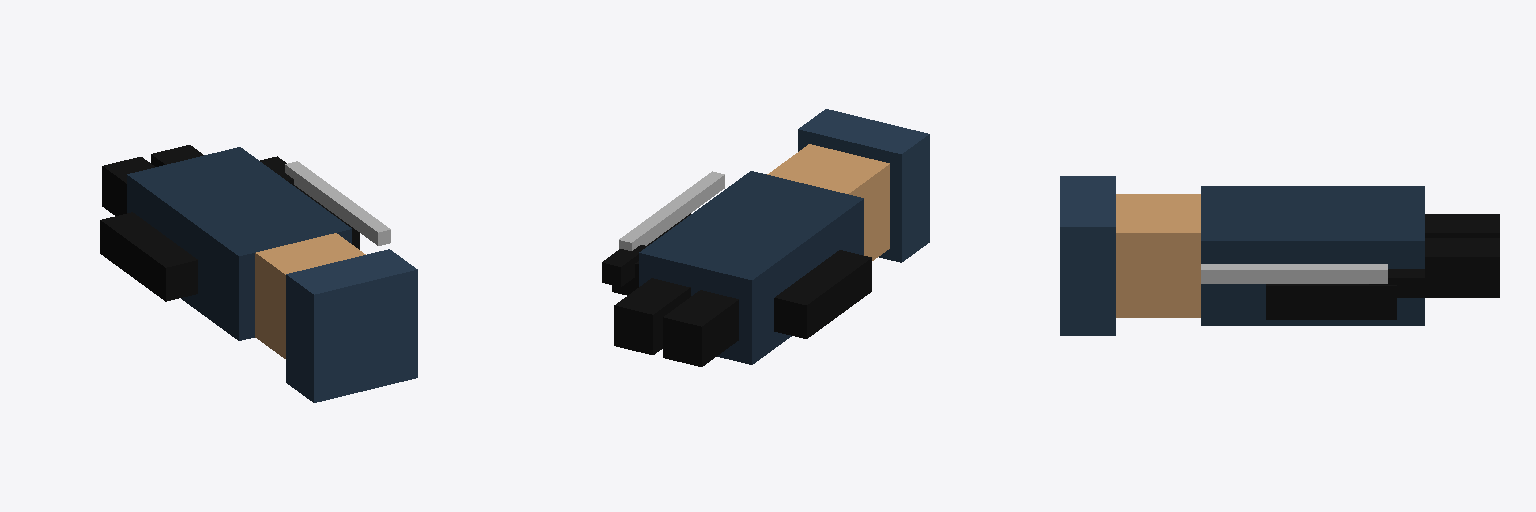
Rendered from samurai_enemy.obj.
The picture shows the model from 3 angles: view 1: azimuth 30°, elevation 25°; view 2: azimuth 150°, elevation 25°; view 3: azimuth 270°, elevation 25°; orthographic projection.
Bounding box in the file's own units: 1.2 × 0.64 × 2.35.